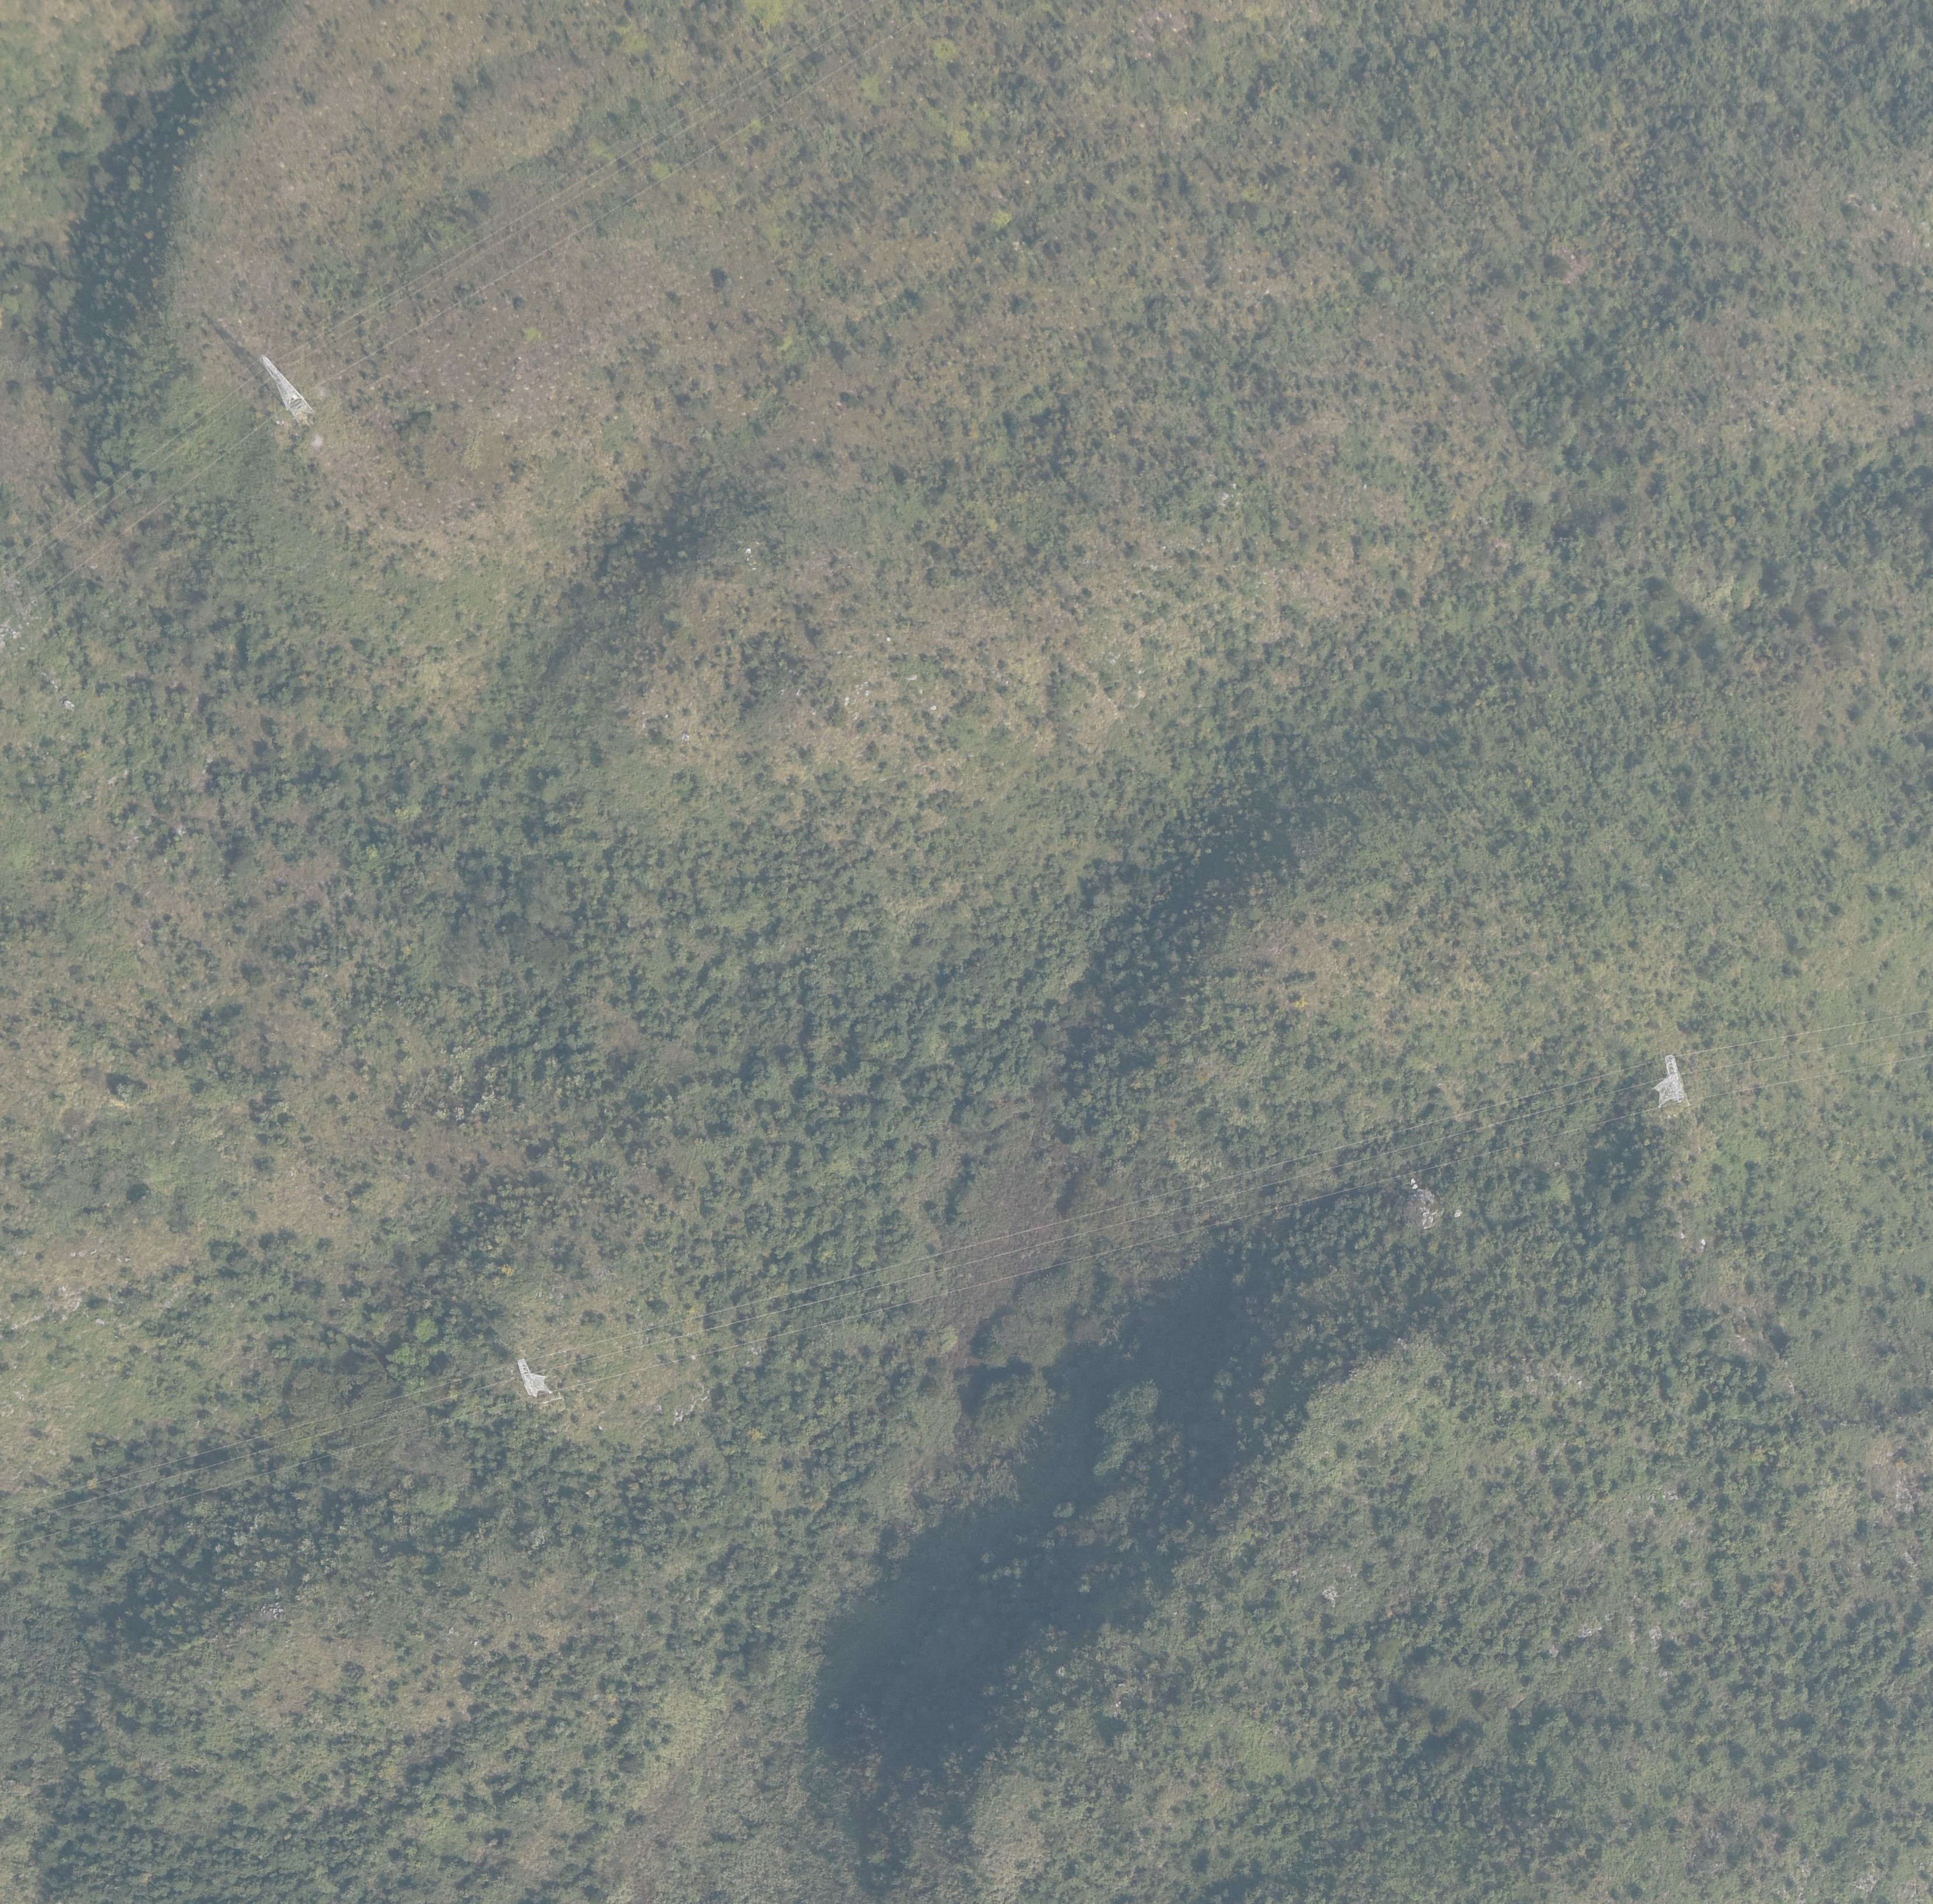cable-tower: (258, 354, 314, 425), (1652, 1055, 1689, 1107), (516, 1358, 553, 1398)
